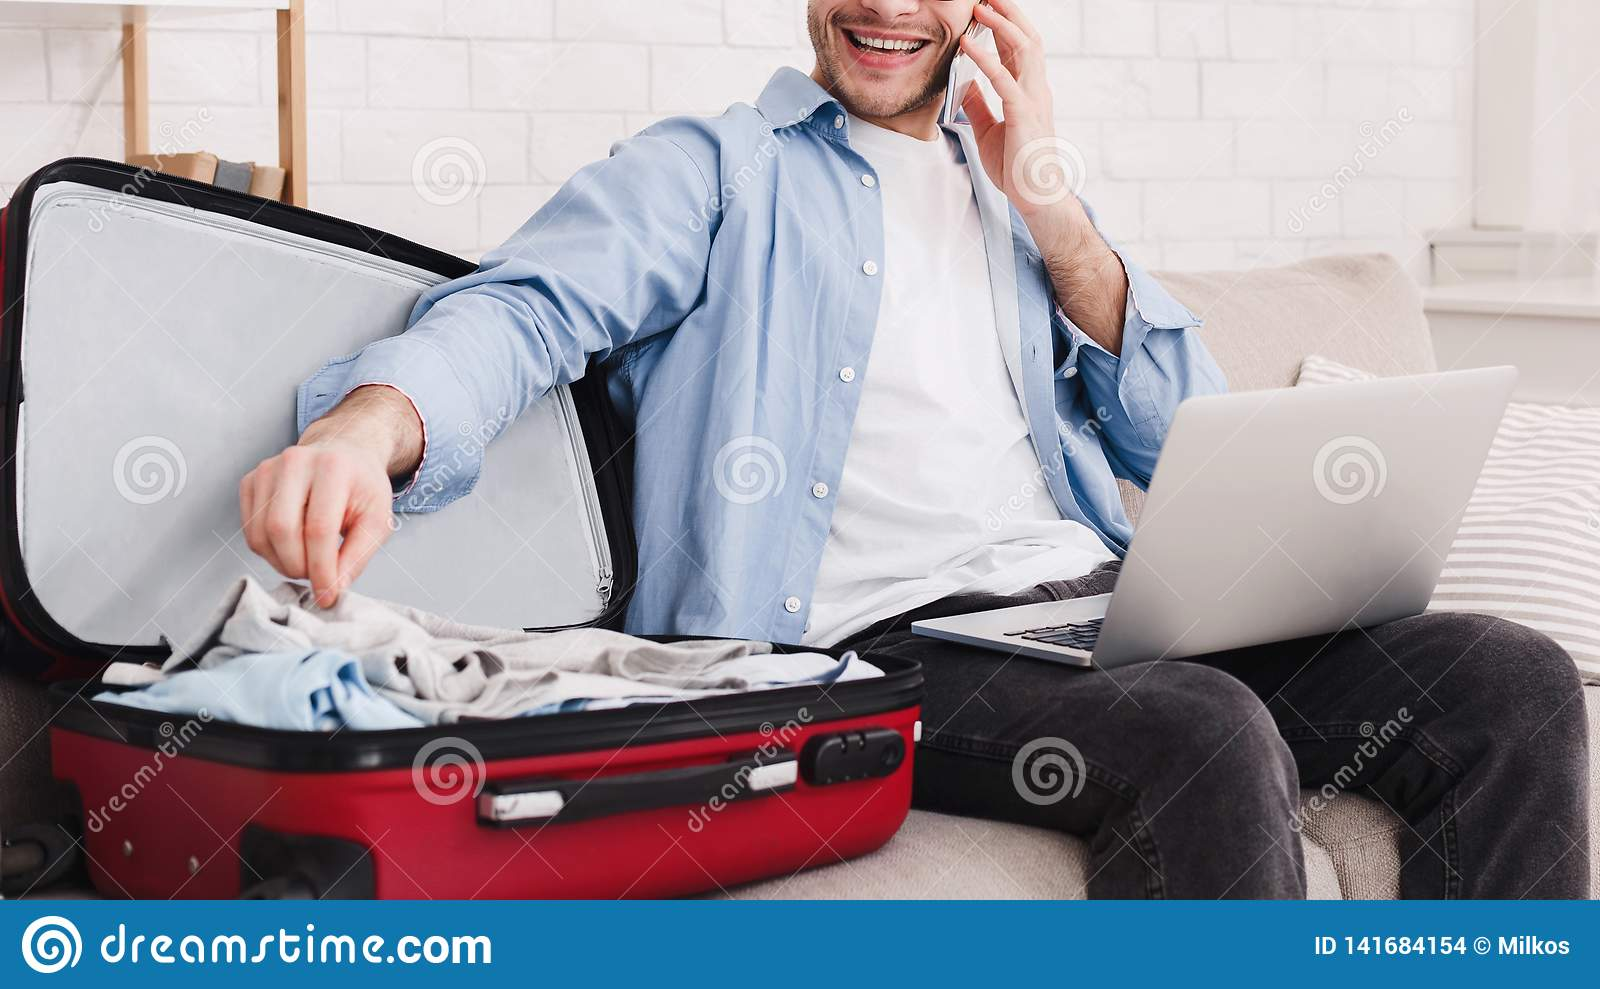phone: (937, 2, 1003, 135)
